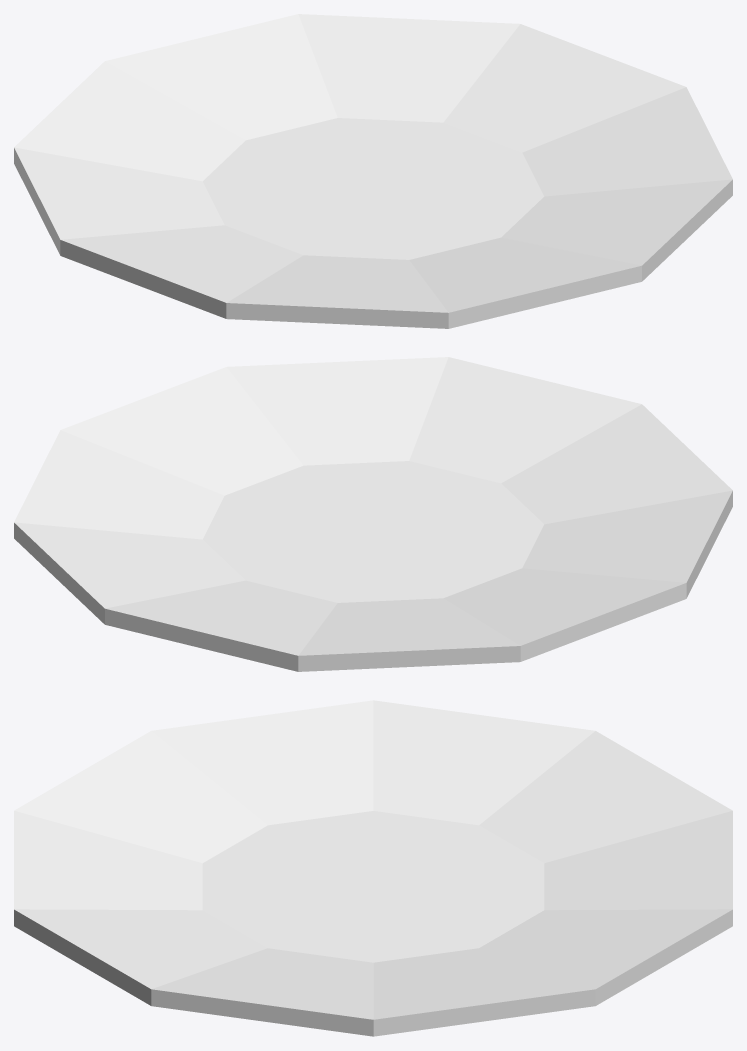
File: PW_plate01.fbx
3 views of the same model, one above another, from view 1: azimuth 30°, elevation 25°; view 2: azimuth 150°, elevation 25°; view 3: azimuth 270°, elevation 25° (orthographic). The views are drawn at different scales.
Visible parts, largest first — view 1: plate01; view 2: plate01; view 3: plate01.
Boxes of the visible parts, bbox=[...] form: plate01: bbox=[14, 14, 732, 328]; plate01: bbox=[14, 357, 732, 671]; plate01: bbox=[14, 700, 732, 1036].
Size of the model in its own units: 50.02 by 4.78 by 47.57.
Materials: 1 (1 with a texture image).
